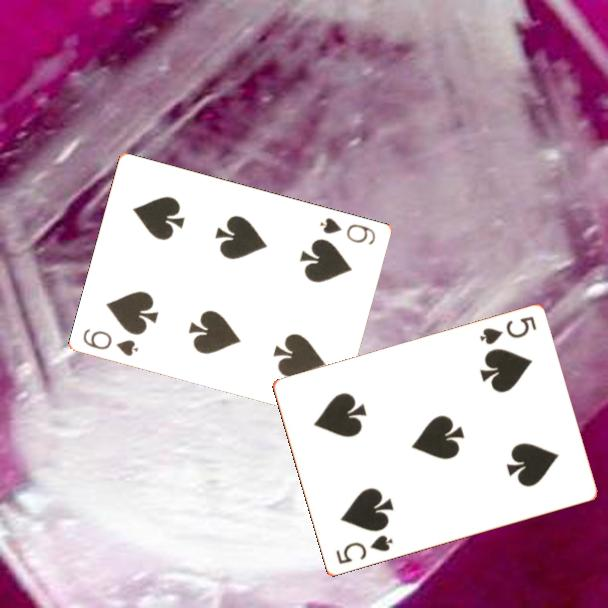s05: (332, 532, 396, 567), (476, 313, 539, 348)
s06: (80, 325, 142, 359), (317, 214, 379, 247)
